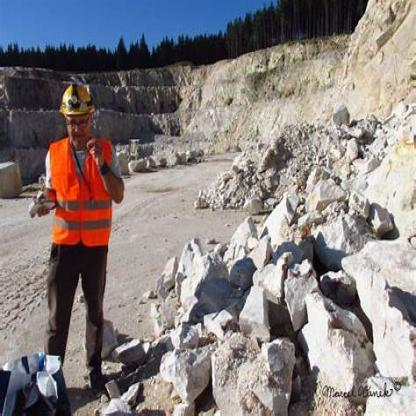person: (30, 61, 103, 415)
